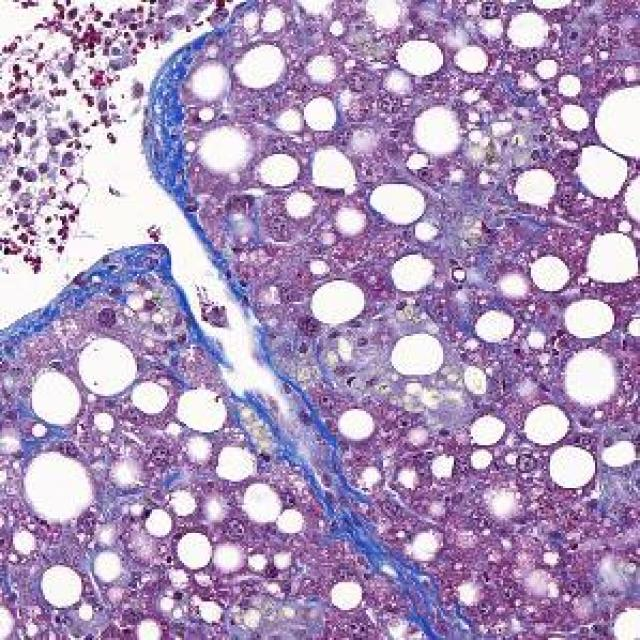fibrosis: (278, 415, 432, 591)
